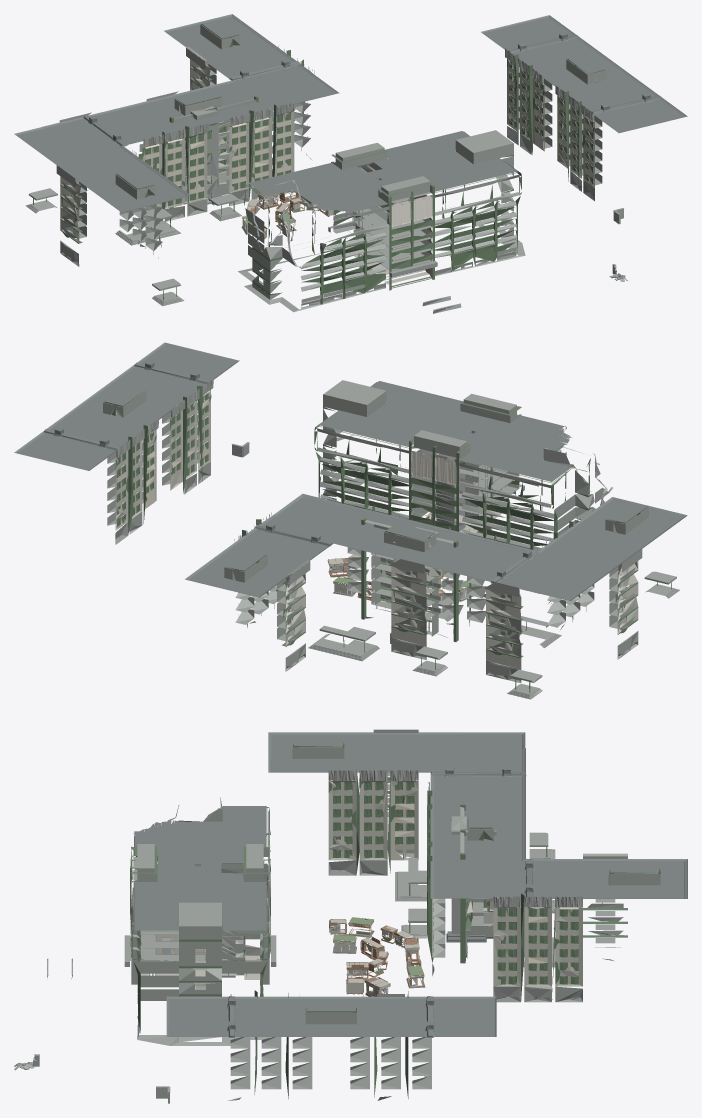
The model's file is apartments_complex_1-map.glb.
The picture shows the model from 3 angles, top to bottom: view 1: azimuth 30°, elevation 25°; view 2: azimuth 150°, elevation 25°; view 3: azimuth 270°, elevation 25°; orthographic projection. The views are drawn at different scales.
Parts seen in each view (by area): view 1: apartment_complex_core_ground_LOD0, wall_300x300_LOD0, apartment_complex_core_facade_LOD0, gutter_wall_connector; view 2: apartment_complex_core_ground_LOD0, wall_300x300_LOD0, apartment_complex_core_facade_LOD0; view 3: apartment_complex_core_ground_LOD0, wall_300x300_LOD0, apartment_complex_core_facade_LOD0, gutter_wall_connector, rentable_shop_B_exterior_LOD0.
Boxes of the visible parts, x1=… form: apartment_complex_core_ground_LOD0: x1=14, y1=14, x2=687, y2=284; wall_300x300_LOD0: x1=25, y1=24, x2=627, y2=313; apartment_complex_core_facade_LOD0: x1=33, y1=24, x2=606, y2=304; gutter_wall_connector: x1=242, y1=190, x2=429, y2=273; apartment_complex_core_ground_LOD0: x1=14, y1=342, x2=687, y2=668; wall_300x300_LOD0: x1=103, y1=379, x2=679, y2=699; apartment_complex_core_facade_LOD0: x1=103, y1=382, x2=671, y2=692; apartment_complex_core_ground_LOD0: x1=132, y1=732, x2=687, y2=1078; wall_300x300_LOD0: x1=14, y1=729, x2=660, y2=1103; apartment_complex_core_facade_LOD0: x1=130, y1=739, x2=660, y2=1098; gutter_wall_connector: x1=228, y1=917, x2=424, y2=996; rentable_shop_B_exterior_LOD0: x1=333, y1=917, x2=423, y2=983.
Size of the model in its own units: 169 by 31.66 by 158.
